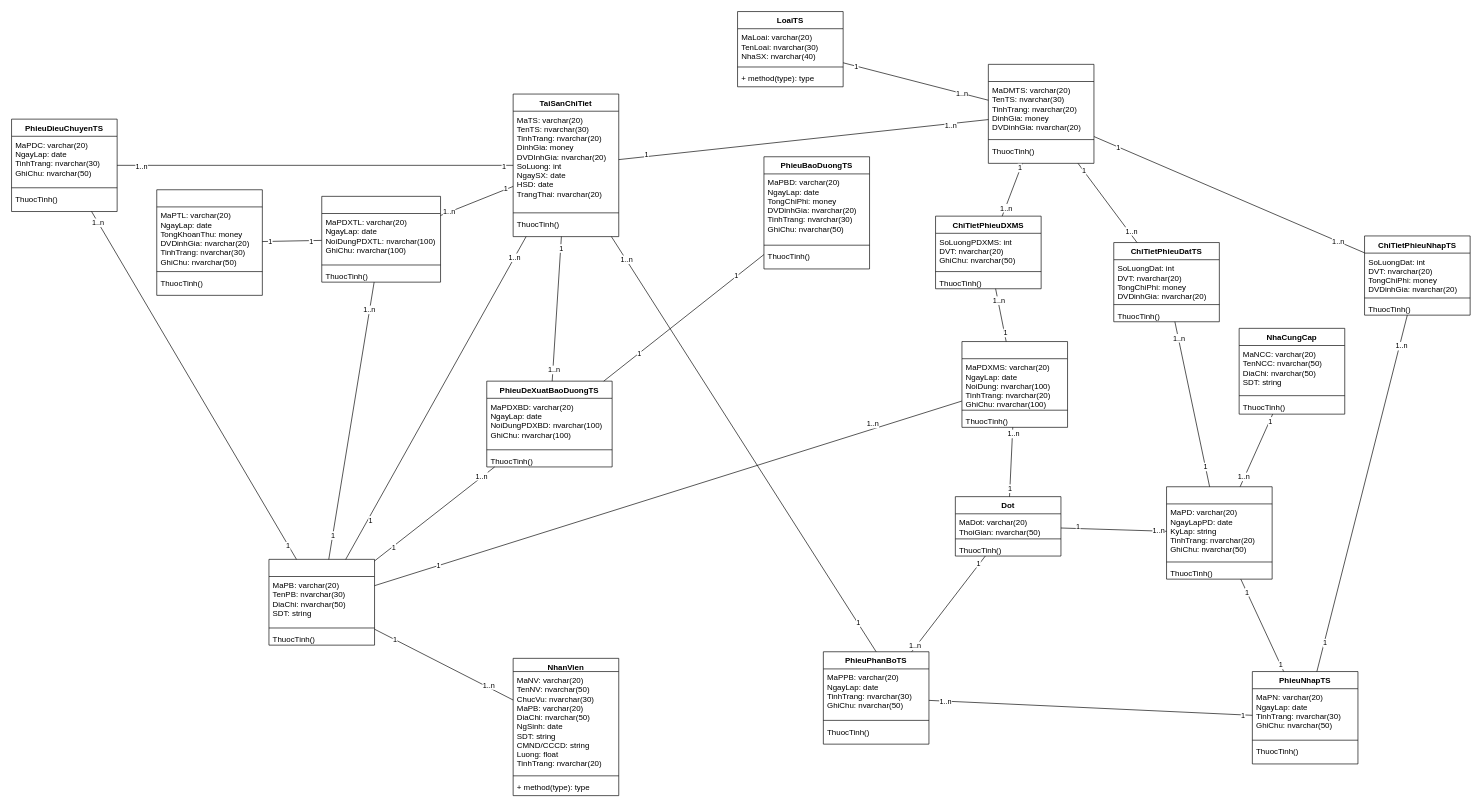
Image size: 1482x809. Some labels were removed from this diagram. Here are the shapes that lost their labels. From the top down, the box of each, then its label:
(988, 64, 1094, 163): DanhMucTaiSan
(156, 189, 262, 295): PhieuThanhLyTS
(321, 196, 441, 282): PhieuDeXuatThanhLyTS
(961, 341, 1068, 427): PhieuDeXuatMuaSamTS
(1166, 486, 1272, 579): PhieuDatTS
(268, 559, 375, 645): PhongBan
